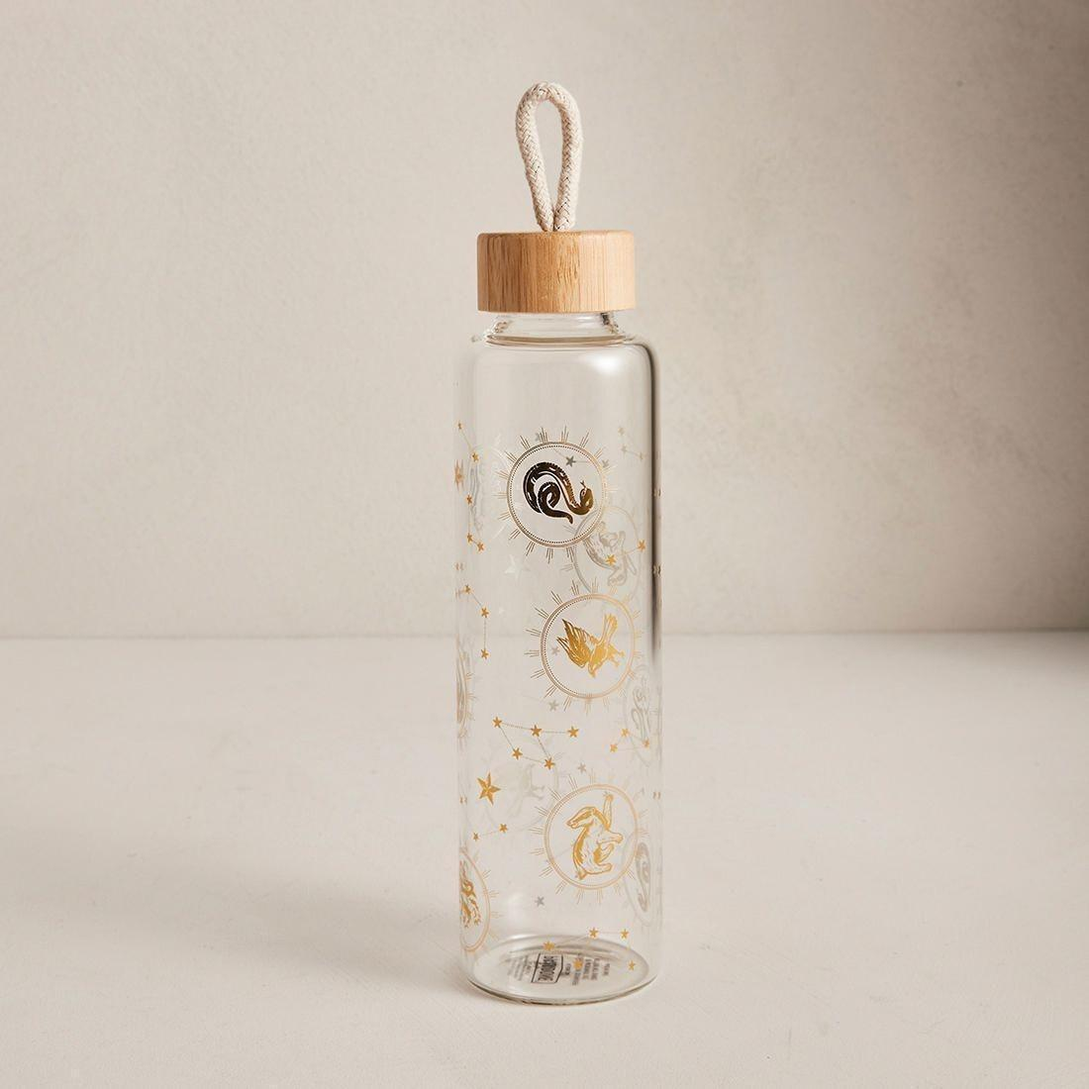gym bottle: (446, 224, 671, 1010)
